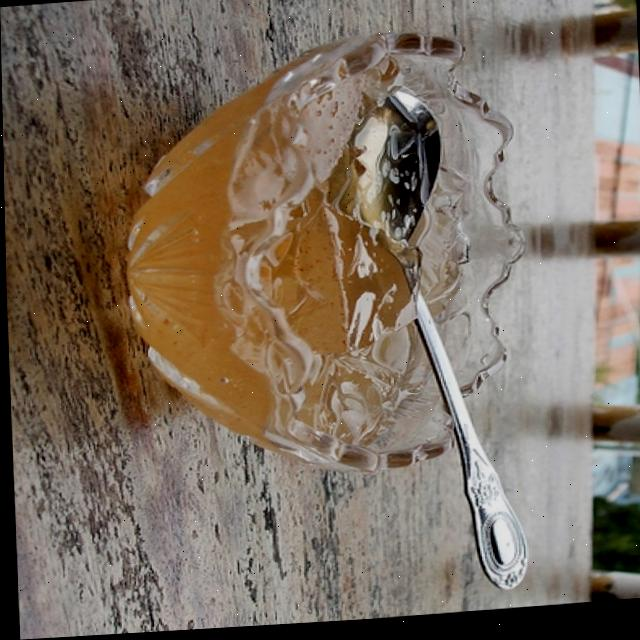蛋糕甜品: (79, 16, 588, 520)
